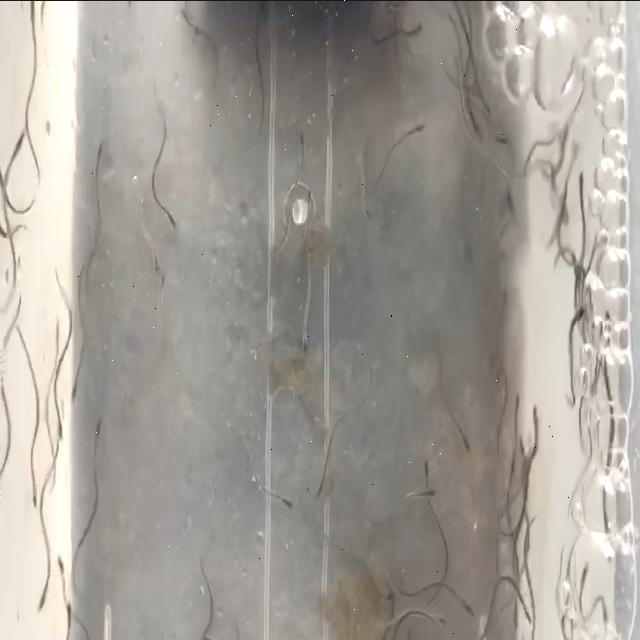active_glass_eel: (371, 570, 397, 610), (500, 168, 520, 220), (88, 128, 108, 178), (507, 382, 524, 431), (402, 14, 426, 46), (292, 124, 306, 178), (68, 355, 80, 417), (600, 519, 616, 565), (50, 397, 64, 449), (514, 591, 534, 627), (298, 304, 310, 362), (525, 402, 544, 438), (10, 125, 26, 167), (92, 407, 104, 461), (458, 584, 476, 620), (576, 550, 592, 590), (417, 448, 431, 493), (462, 105, 482, 136), (34, 578, 52, 612), (409, 116, 429, 146), (153, 268, 167, 310), (571, 299, 587, 335), (514, 433, 530, 468), (24, 478, 40, 512), (163, 197, 177, 235), (54, 555, 68, 591), (572, 168, 586, 204), (276, 496, 298, 518), (494, 123, 511, 151), (422, 611, 448, 629), (418, 474, 437, 498), (457, 430, 472, 458), (314, 466, 326, 500), (360, 188, 370, 225), (152, 232, 160, 278)
